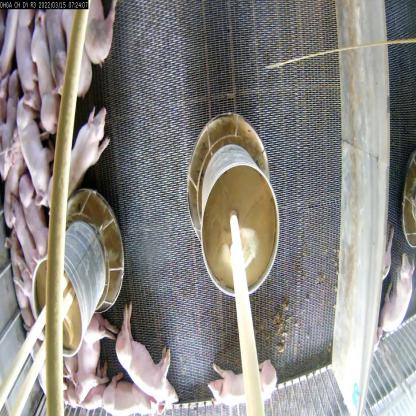Pig: (48, 94, 110, 214), (108, 301, 172, 406), (202, 355, 282, 415), (24, 24, 63, 142), (16, 85, 52, 189), (67, 325, 115, 403), (59, 10, 95, 112), (385, 249, 416, 351), (83, 0, 122, 75), (5, 195, 34, 294), (14, 176, 48, 258), (107, 373, 163, 415), (42, 8, 70, 92)
